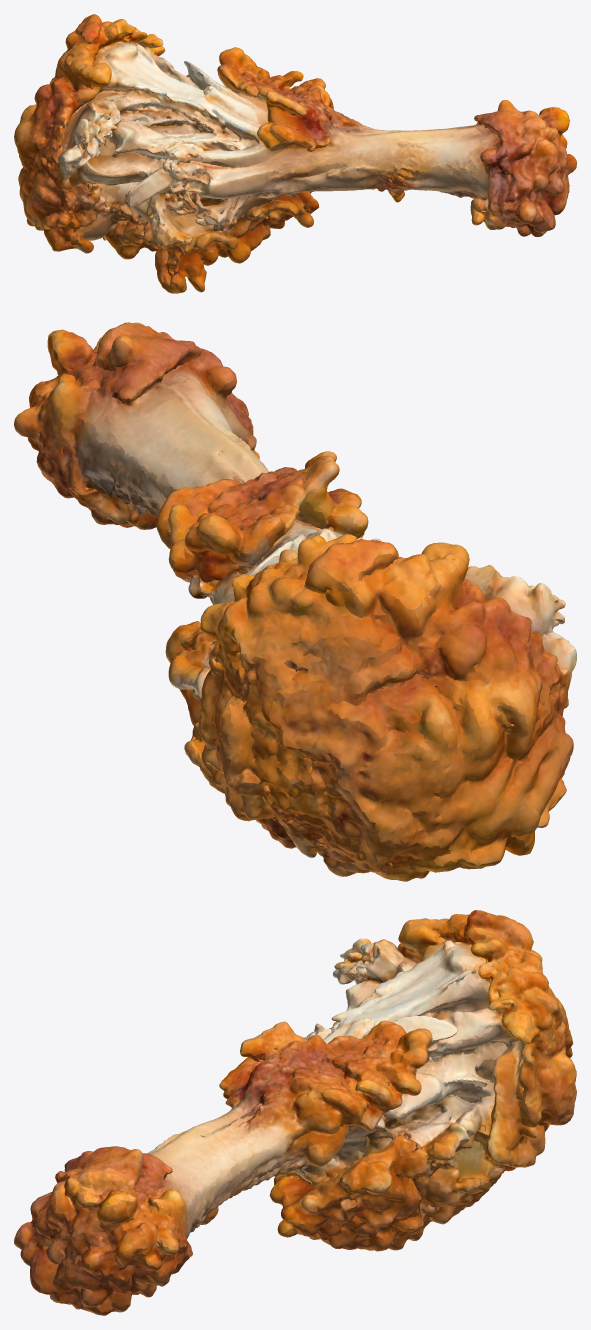
The picture shows the model from 3 angles, top to bottom: view 1: azimuth 30°, elevation 25°; view 2: azimuth 150°, elevation 25°; view 3: azimuth 270°, elevation 25°; orthographic projection. The views are drawn at different scales.
Parts seen in each view (by area): view 1: FoodRedoV2Alignment-0; view 2: FoodRedoV2Alignment-0; view 3: FoodRedoV2Alignment-0.
Boxes of the visible parts, x1,y1,x2,y2 form: FoodRedoV2Alignment-0: [14, 14, 576, 293]; FoodRedoV2Alignment-0: [14, 322, 576, 881]; FoodRedoV2Alignment-0: [14, 910, 576, 1315].
Size of the model in its own units: 0.1311 by 0.0688 by 0.1155.
Materials: 1 (1 with a texture image).
